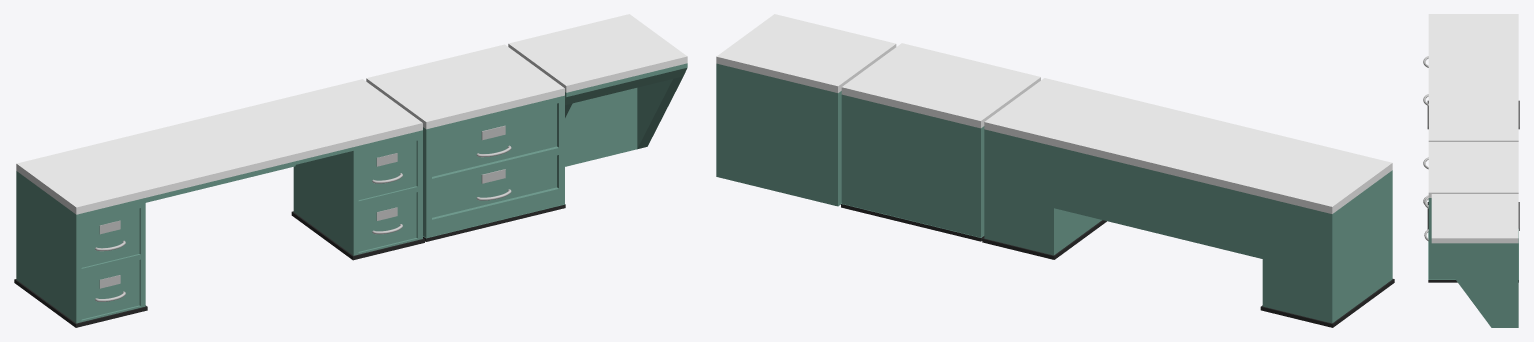
The model's file is MRICounter.glb.
3 views of the same model, side by side, from view 1: azimuth 30°, elevation 25°; view 2: azimuth 150°, elevation 25°; view 3: azimuth 270°, elevation 25° (orthographic). The views are drawn at different scales.
Parts seen in each view (by area): view 1: Table, Table Extension, Array Table; view 2: Table, Table Extension, Array Table; view 3: Table, Array Table, Table Extension.
Boxes of the visible parts, x1,y1,x2,y2 form: Table: [14, 79, 424, 327]; Table Extension: [366, 44, 565, 241]; Array Table: [508, 14, 687, 166]; Table: [982, 78, 1394, 327]; Table Extension: [841, 43, 1040, 241]; Array Table: [716, 14, 896, 206]; Table: [1423, 14, 1519, 230]; Array Table: [1431, 194, 1518, 327]; Table Extension: [1424, 142, 1518, 282].
Size of the model in its own units: 17.74 by 3.3 by 3.21.
